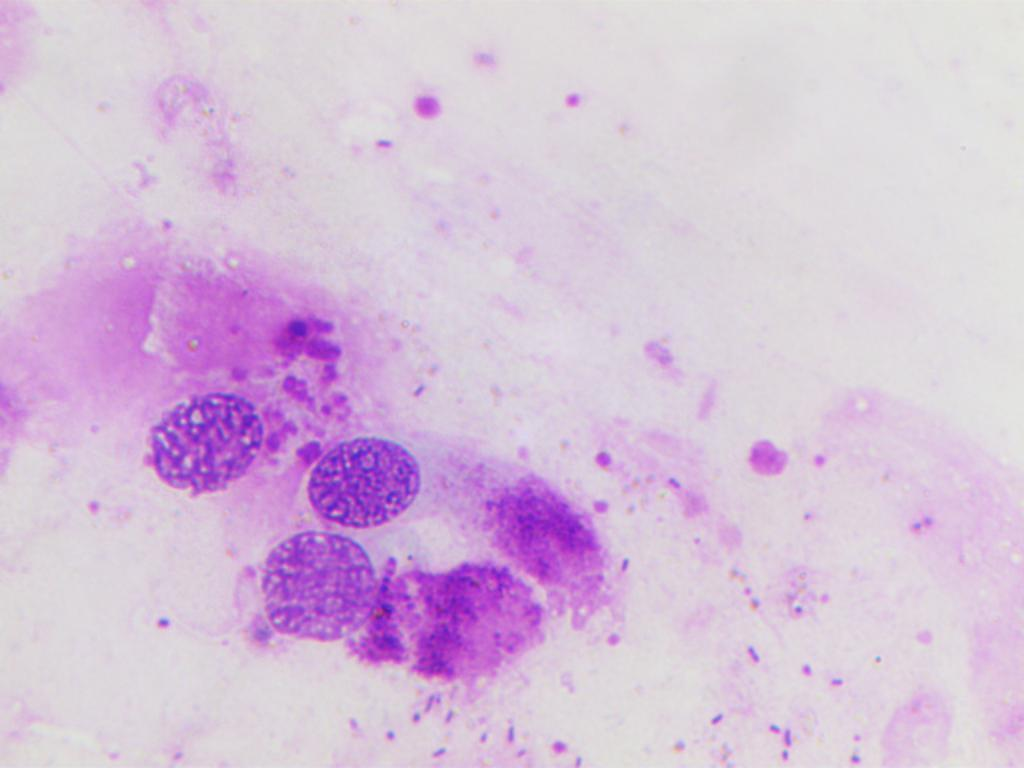artifact: (379, 549, 551, 686), (463, 441, 619, 592)
epithelial: (257, 530, 376, 656), (145, 390, 266, 495), (306, 432, 421, 527)
